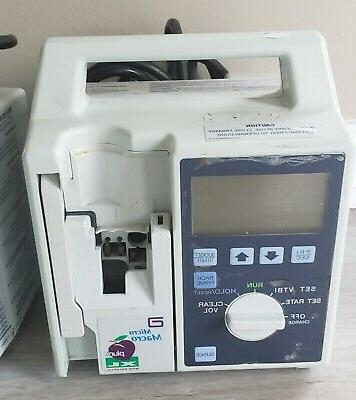plumxl1: (22, 30, 351, 377)
